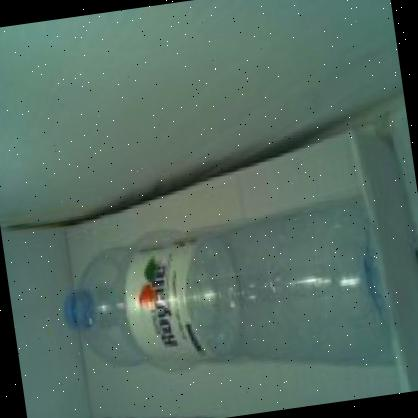bottle: (52, 169, 411, 418)
label: (118, 221, 220, 378)
